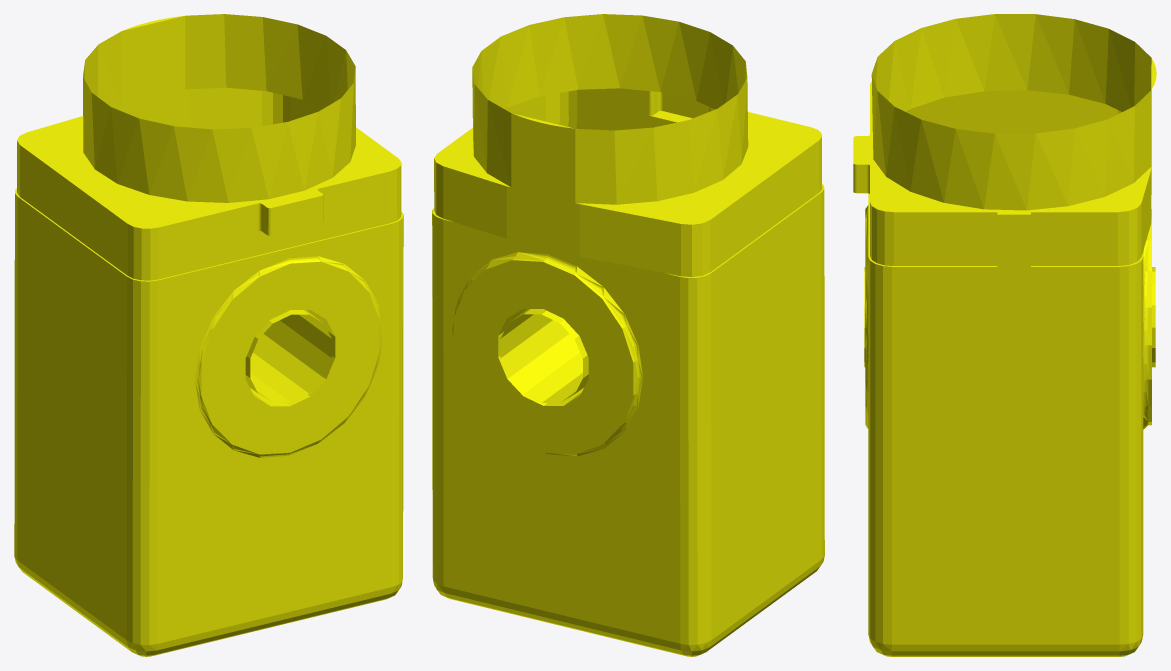
3 renders of one model, left to right at view 1: azimuth 30°, elevation 25°; view 2: azimuth 150°, elevation 25°; view 3: azimuth 270°, elevation 25°, orthographic. The views are drawn at different scales.
Visible parts, largest first — view 1: node; view 2: node; view 3: node.
Part boxes in pixels (x1,y1,x2,y2): node: (14, 14, 403, 656); node: (432, 14, 824, 656); node: (853, 14, 1156, 656).
Bounding box in the file's own units: 99.39 × 174 × 90.5.
